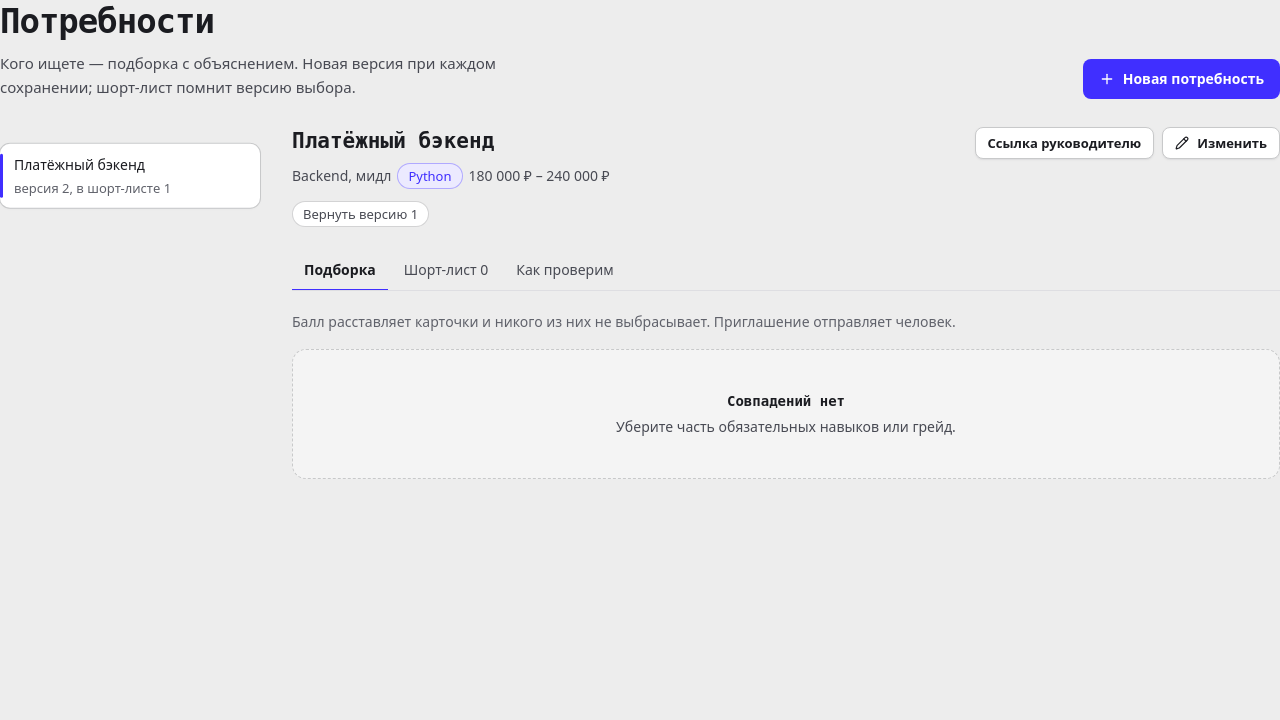
Scenario: потребность › кнопка-пример вставляет текст вакансии и ничего не сохраняет
Click the button "Новая потребность". click: (1181, 79)
box: [1083,59,1279,99]
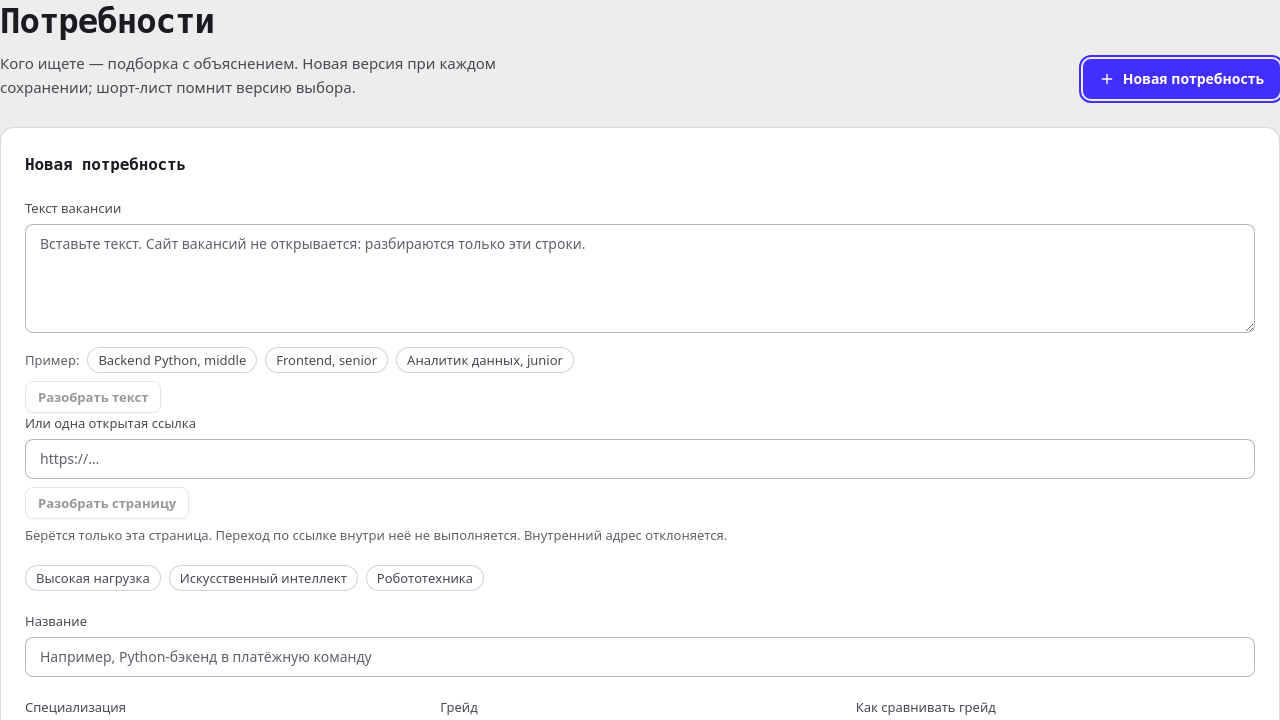
Click the button "Frontend, senior". click: (327, 360)
box: [265,347,388,373]
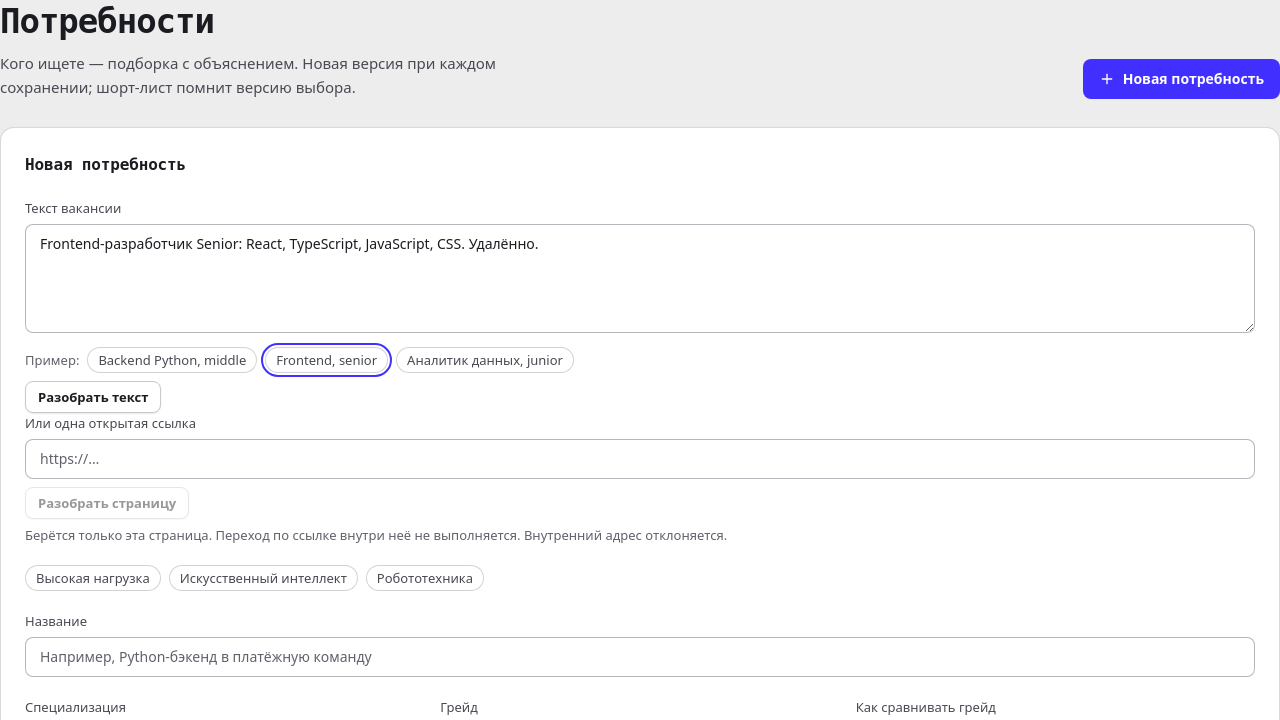
Check: the text box labelled "Текст вакансии" holds "Frontend-разработчик Senior: React, TypeScript, JavaScript, CSS. Удалённо.", box [25,224,1255,333]
